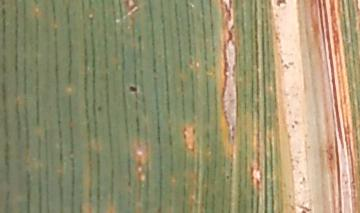tarspot: (275, 1, 288, 8), (127, 85, 138, 93), (96, 104, 103, 113), (287, 60, 295, 67), (282, 63, 289, 70), (293, 119, 299, 126), (301, 175, 306, 183), (290, 123, 295, 129), (300, 209, 307, 213)
